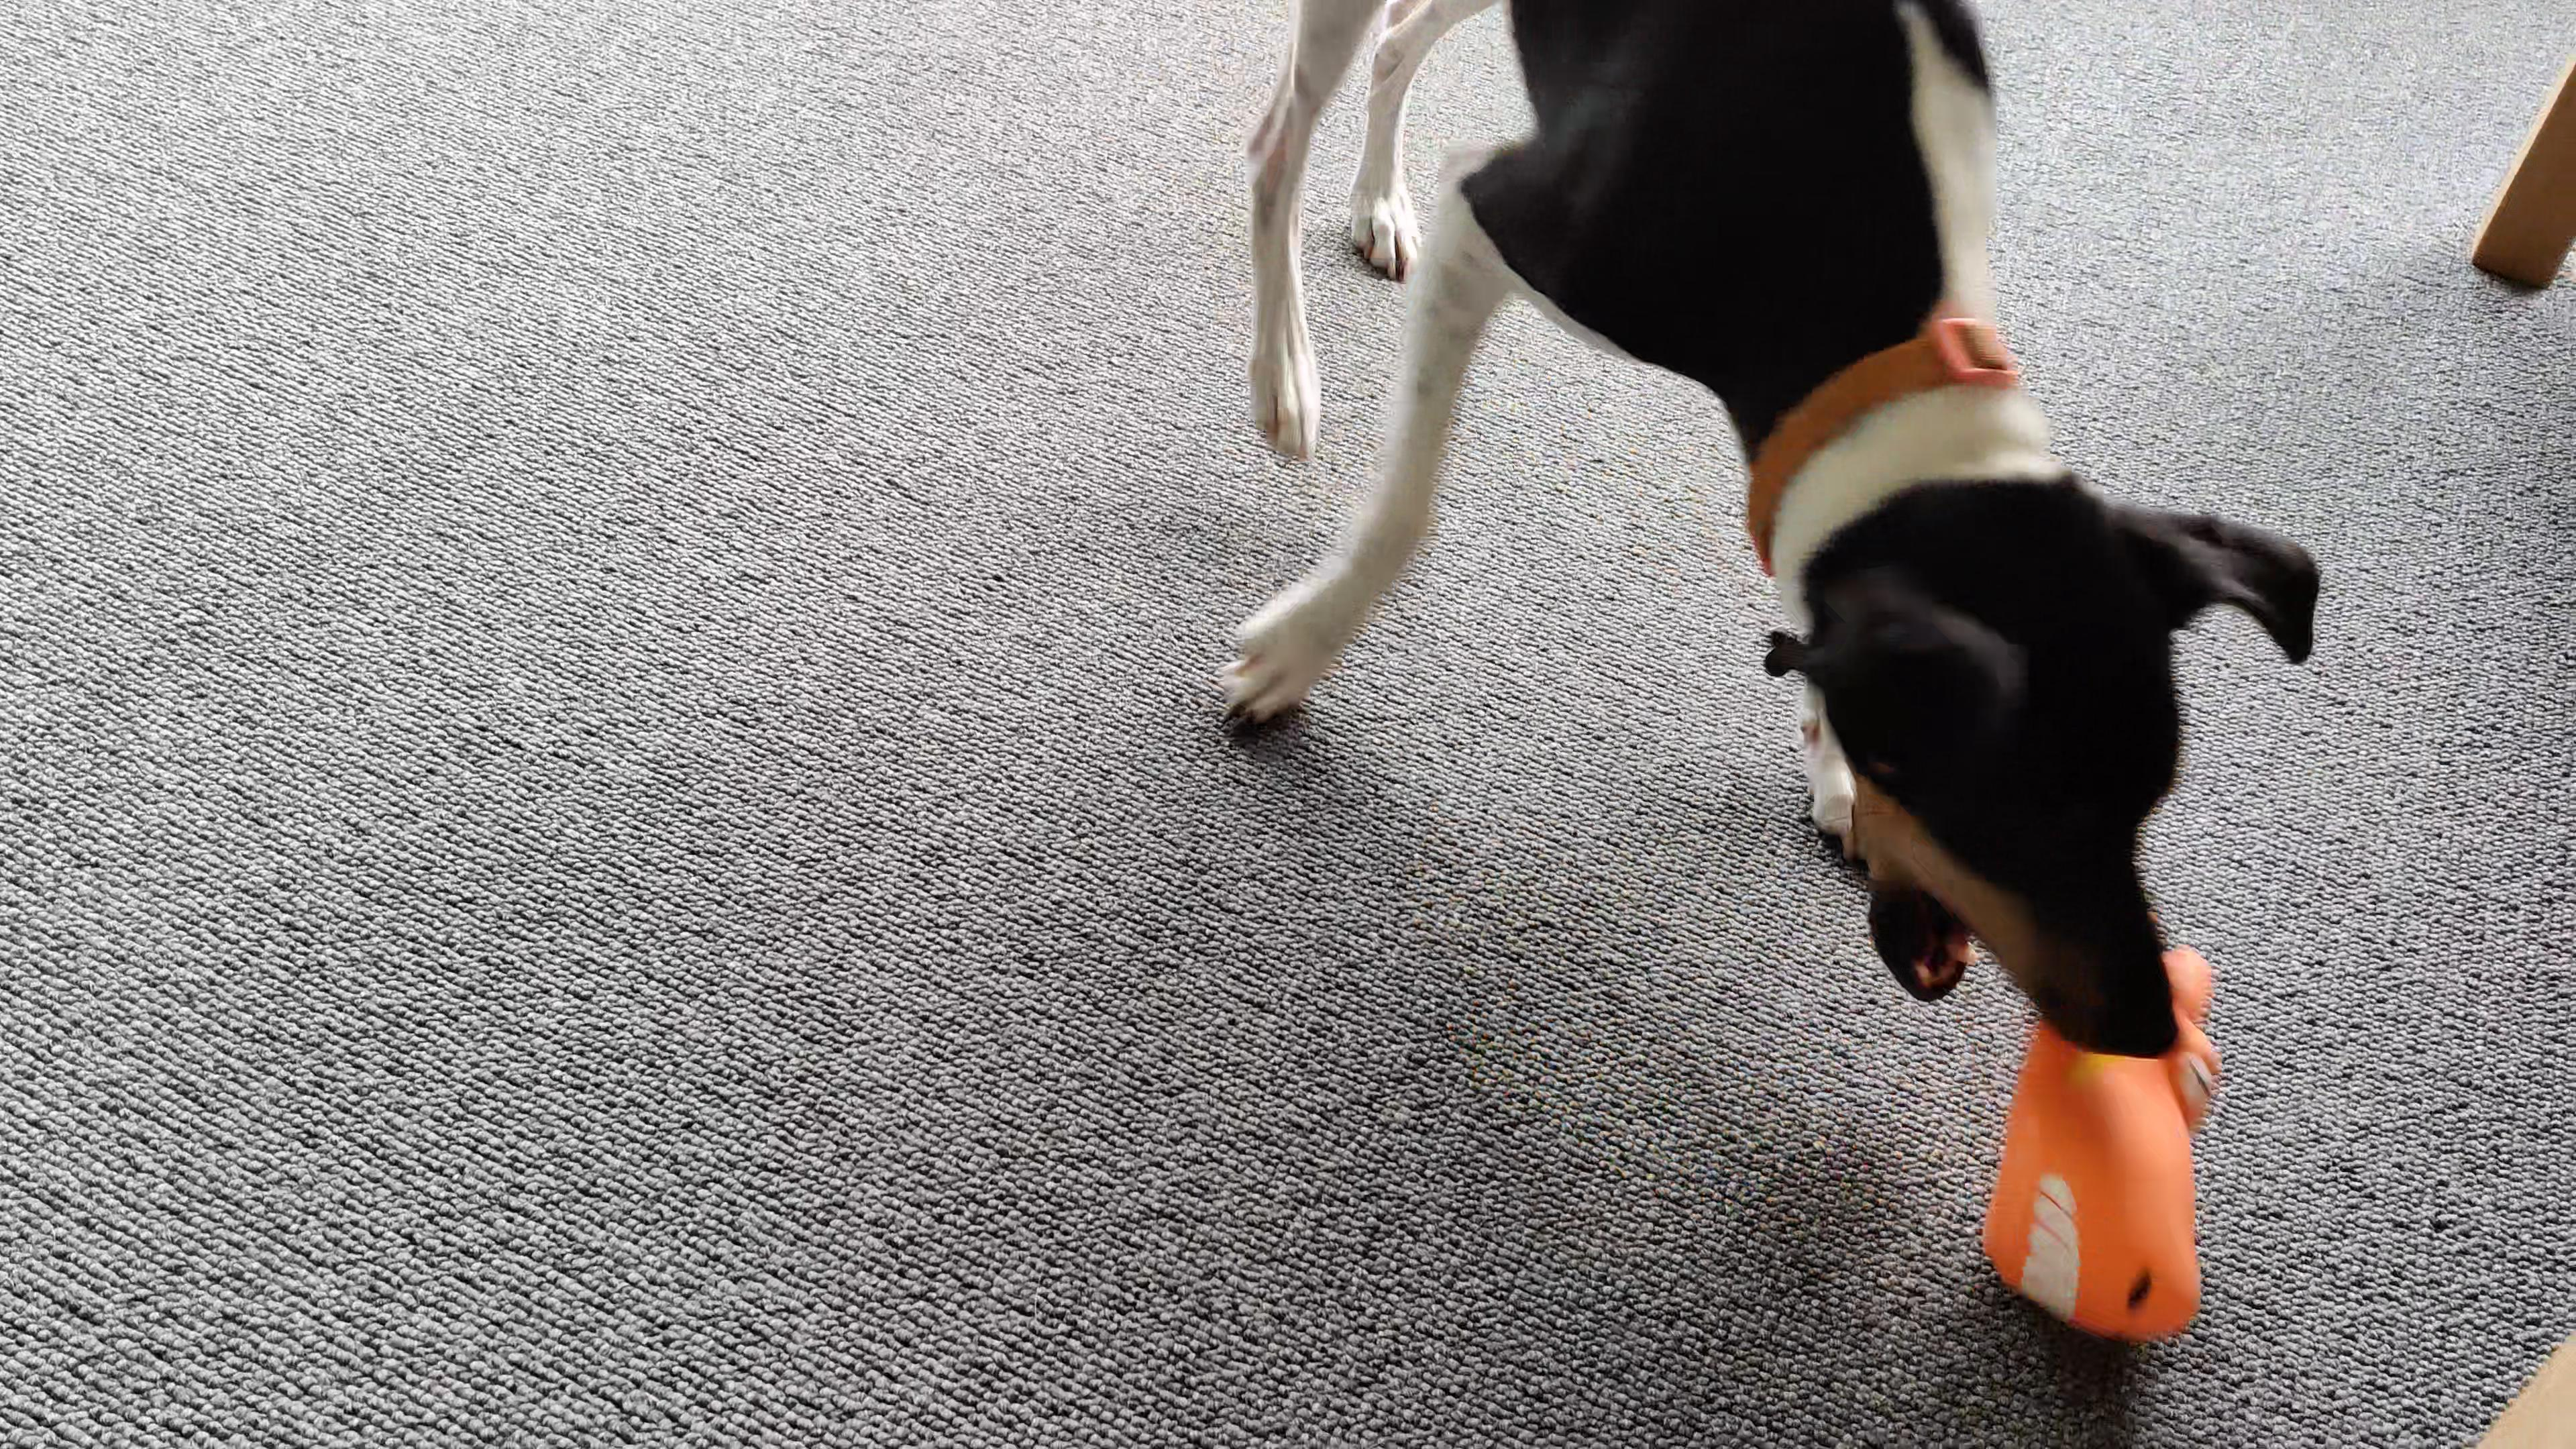Dog: (1207, 0, 2330, 1070)
